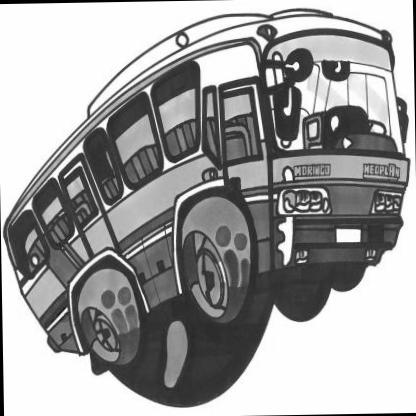bus: (1, 8, 416, 384)
